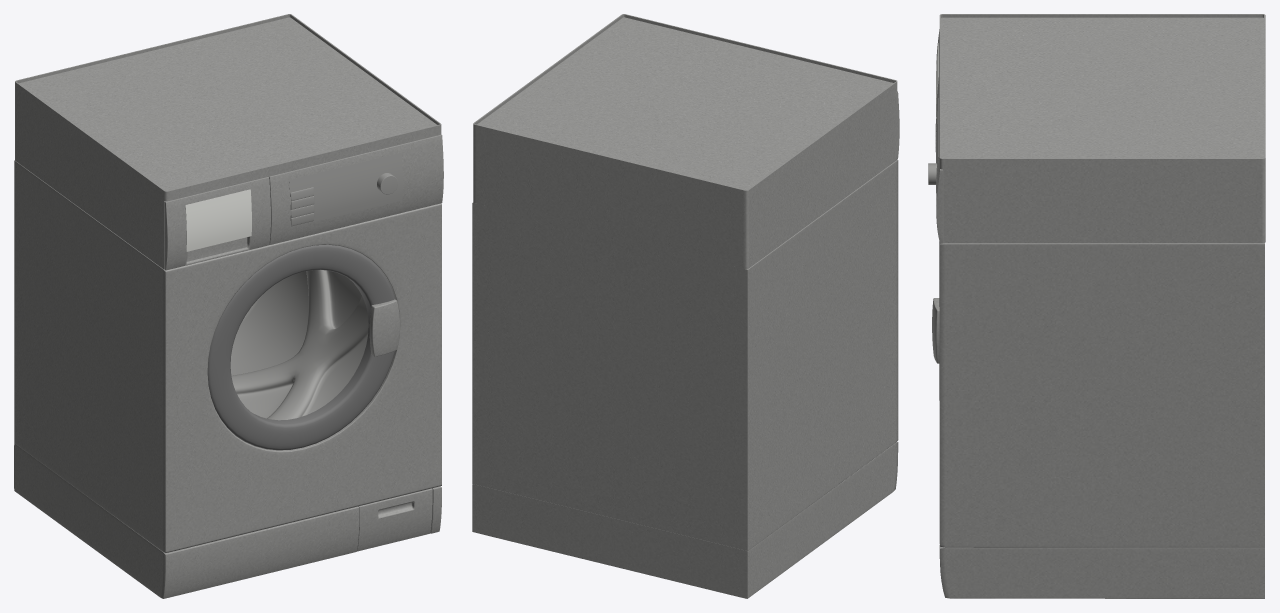
File: A23DMOD_FBX.fbx
3 views of the same model, side by side, from view 1: azimuth 30°, elevation 25°; view 2: azimuth 150°, elevation 25°; view 3: azimuth 270°, elevation 25° (orthographic). The views are drawn at different scales.
Visible parts, largest first — view 1: A23DOBJ_001; view 2: A23DOBJ_001; view 3: A23DOBJ_001.
Boxes of the visible parts, x1,y1,x2,y2 form: A23DOBJ_001: [14, 14, 443, 598]; A23DOBJ_001: [472, 14, 899, 598]; A23DOBJ_001: [928, 14, 1265, 598].
Size of the model in its own units: 60.02 by 84.98 by 58.98.
Materials: 7 (7 with a texture image).
